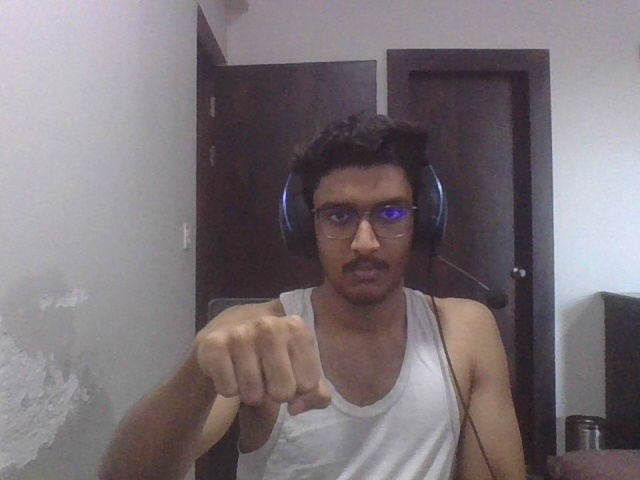Yes: (180, 306, 343, 424)
